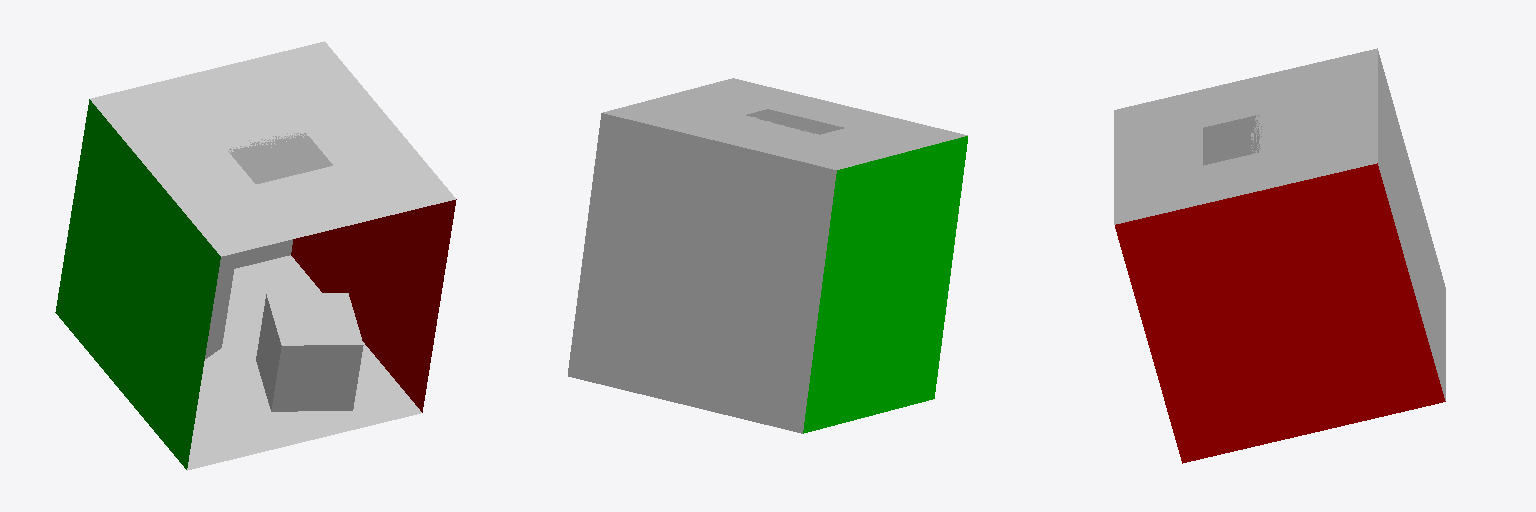
The model's file is boxes.obj.
3 renders of one model, left to right at view 1: azimuth 30°, elevation 25°; view 2: azimuth 150°, elevation 25°; view 3: azimuth 270°, elevation 25°, orthographic.
Visible parts, largest first — view 1: Cube_Cube.003, Cube.002_Cube, Cube.001, Cube.003_Cube.002; view 2: Cube_Cube.003, Cube.001; view 3: Cube_Cube.003, Cube.001.
Boxes of the visible parts, x1=… form: Cube_Cube.003: x1=55, y1=41, x2=456, y2=470; Cube.002_Cube: x1=256, y1=293, x2=363, y2=411; Cube.001: x1=228, y1=133, x2=332, y2=183; Cube.003_Cube.002: x1=205, y1=253, x2=236, y2=358; Cube_Cube.003: x1=568, y1=78, x2=967, y2=433; Cube.001: x1=746, y1=109, x2=843, y2=134; Cube_Cube.003: x1=1114, y1=48, x2=1445, y2=463; Cube.001: x1=1203, y1=115, x2=1261, y2=165.
Size of the model in its own units: 1.12 by 1.36 by 1.36.